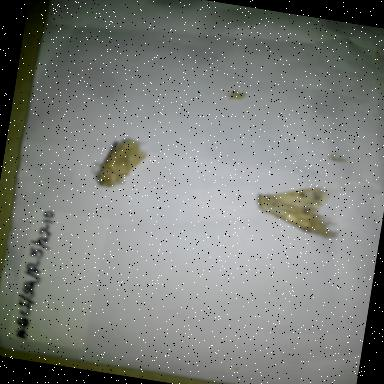abw: (244, 170, 350, 251), (84, 128, 156, 198)
